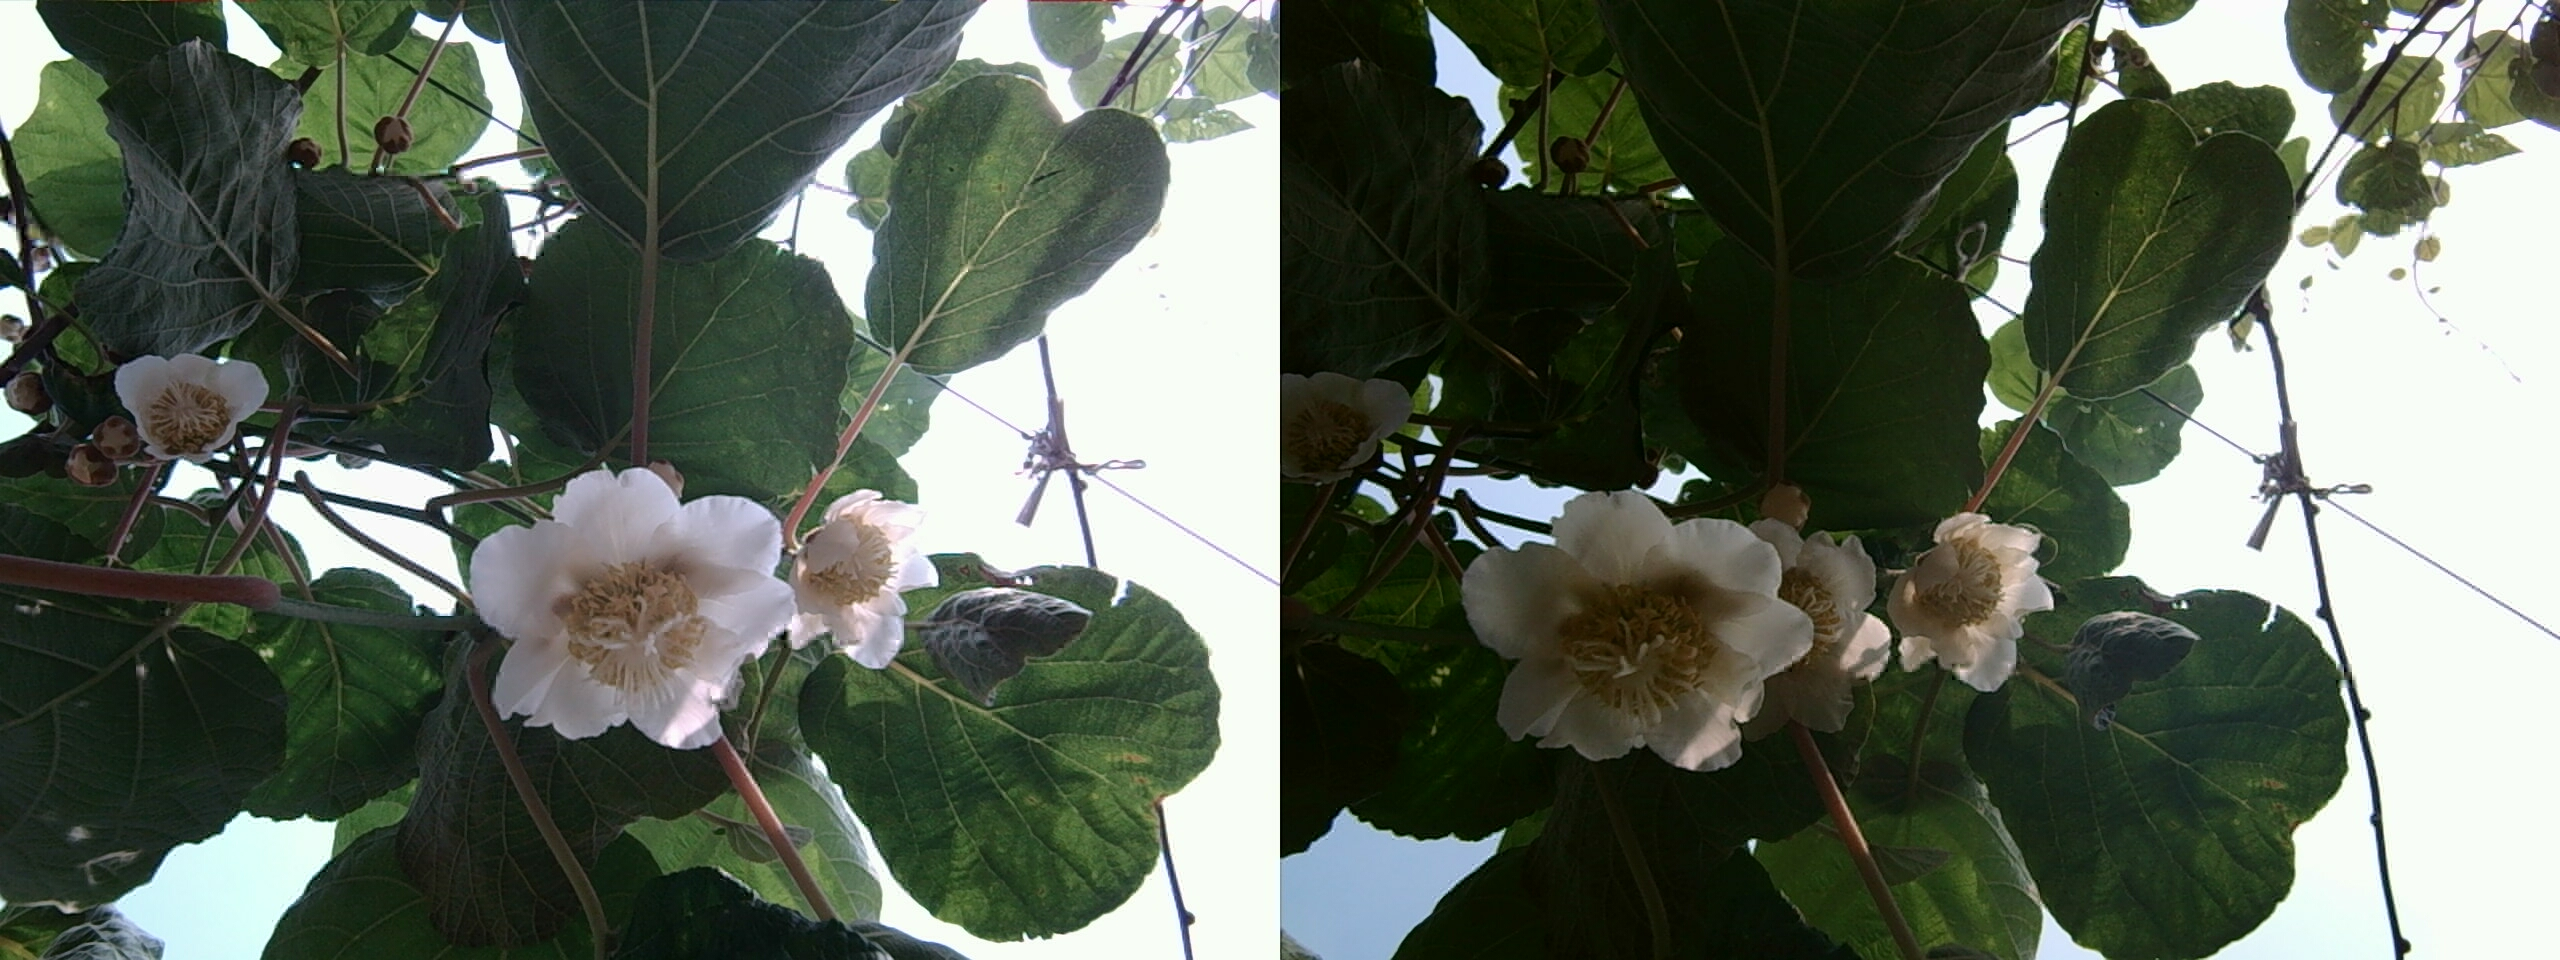flower: (470, 464, 779, 749), (1479, 501, 1794, 771), (1878, 509, 2054, 682), (1739, 527, 1882, 725), (776, 493, 934, 660), (104, 348, 263, 457)
